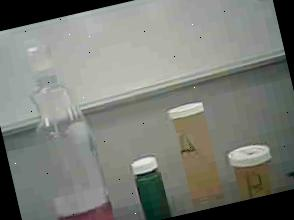Bottle A: (158, 93, 229, 212)
Bottle B: (218, 128, 285, 203)
Bottle C: (123, 145, 176, 220)
hazard: (0, 22, 126, 220)
